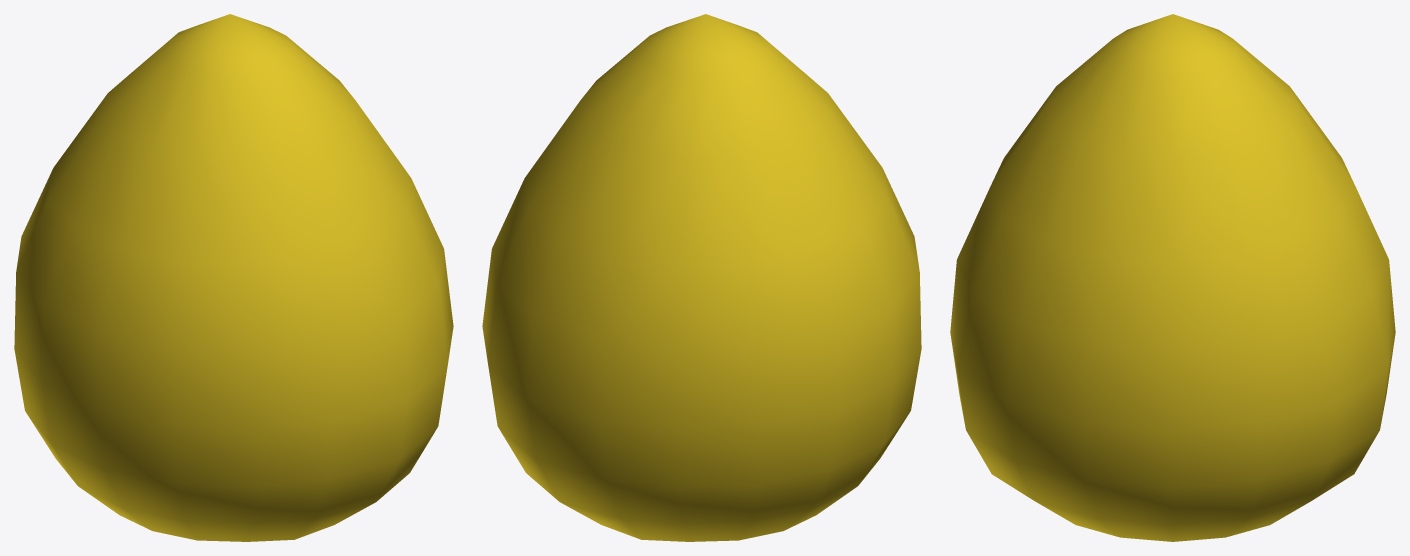
File: HealthPickup.glb
The picture shows the model from 3 angles, left to right: view 1: azimuth 30°, elevation 25°; view 2: azimuth 150°, elevation 25°; view 3: azimuth 270°, elevation 25°; orthographic projection.
Parts seen in each view (by area): view 1: Pickup; view 2: Pickup; view 3: Pickup.
Boxes of the visible parts, box(x1,y1,x2,y2) form: Pickup: box(14, 14, 453, 541); Pickup: box(482, 14, 921, 541); Pickup: box(950, 14, 1395, 541).
Bounding box in the file's own units: 2.1 × 2.67 × 2.13.
